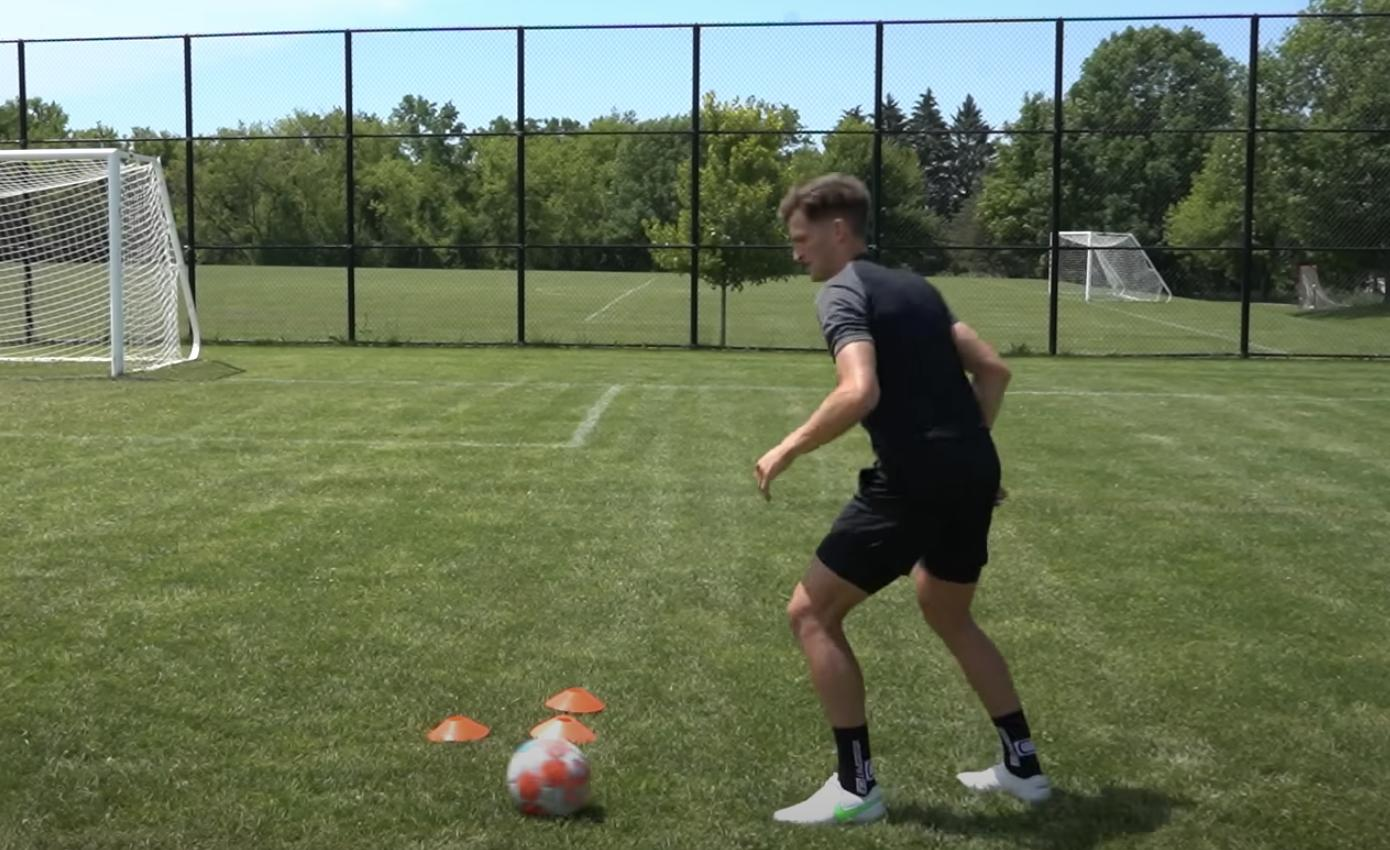ball: (503, 739, 592, 817)
foot: (773, 772, 889, 825), (955, 762, 1051, 804)
person: (754, 174, 1054, 821)
